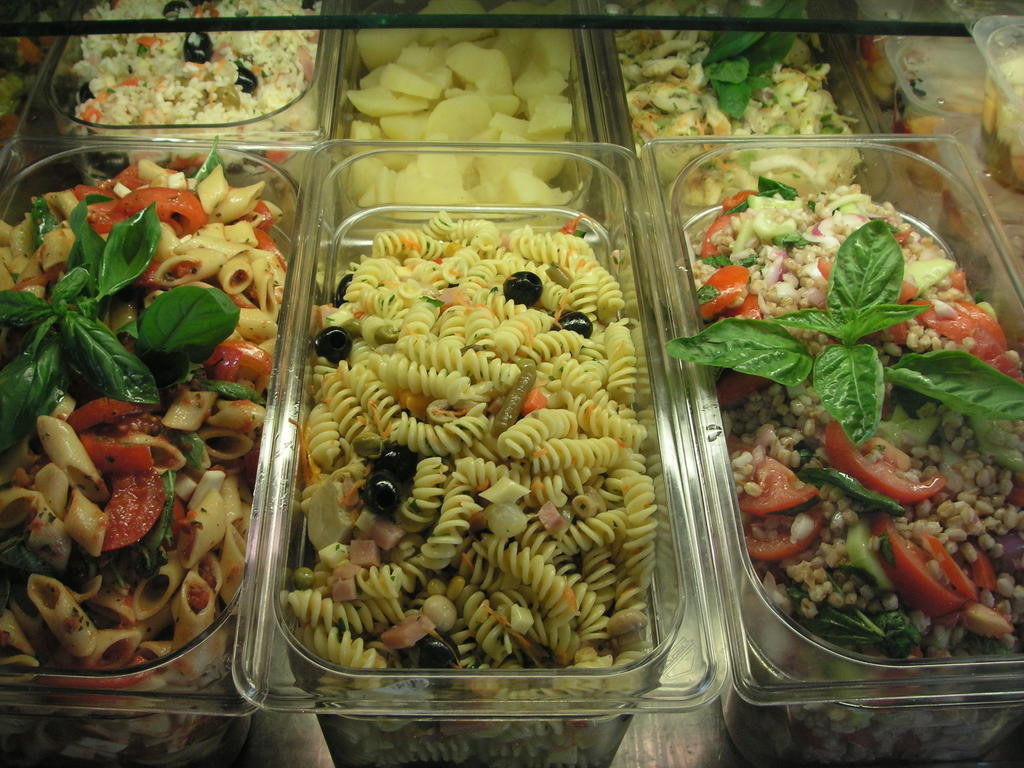pasta: (289, 211, 655, 767), (17, 98, 283, 698)
